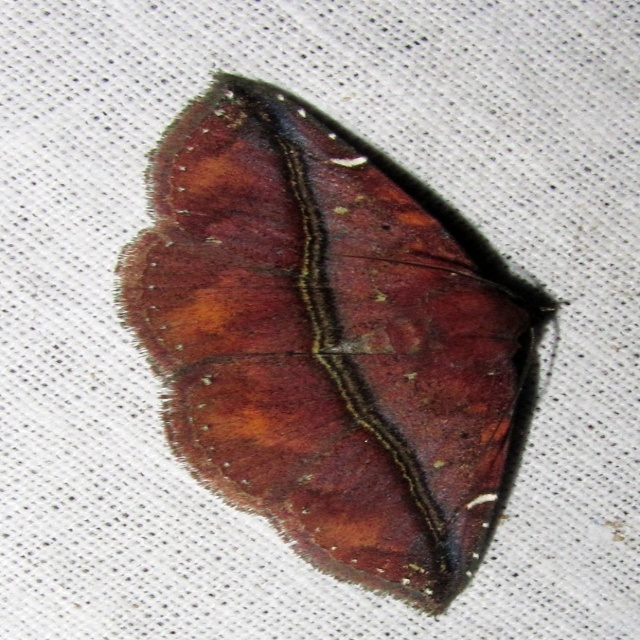Moths and butterflies: (113, 70, 573, 618)
